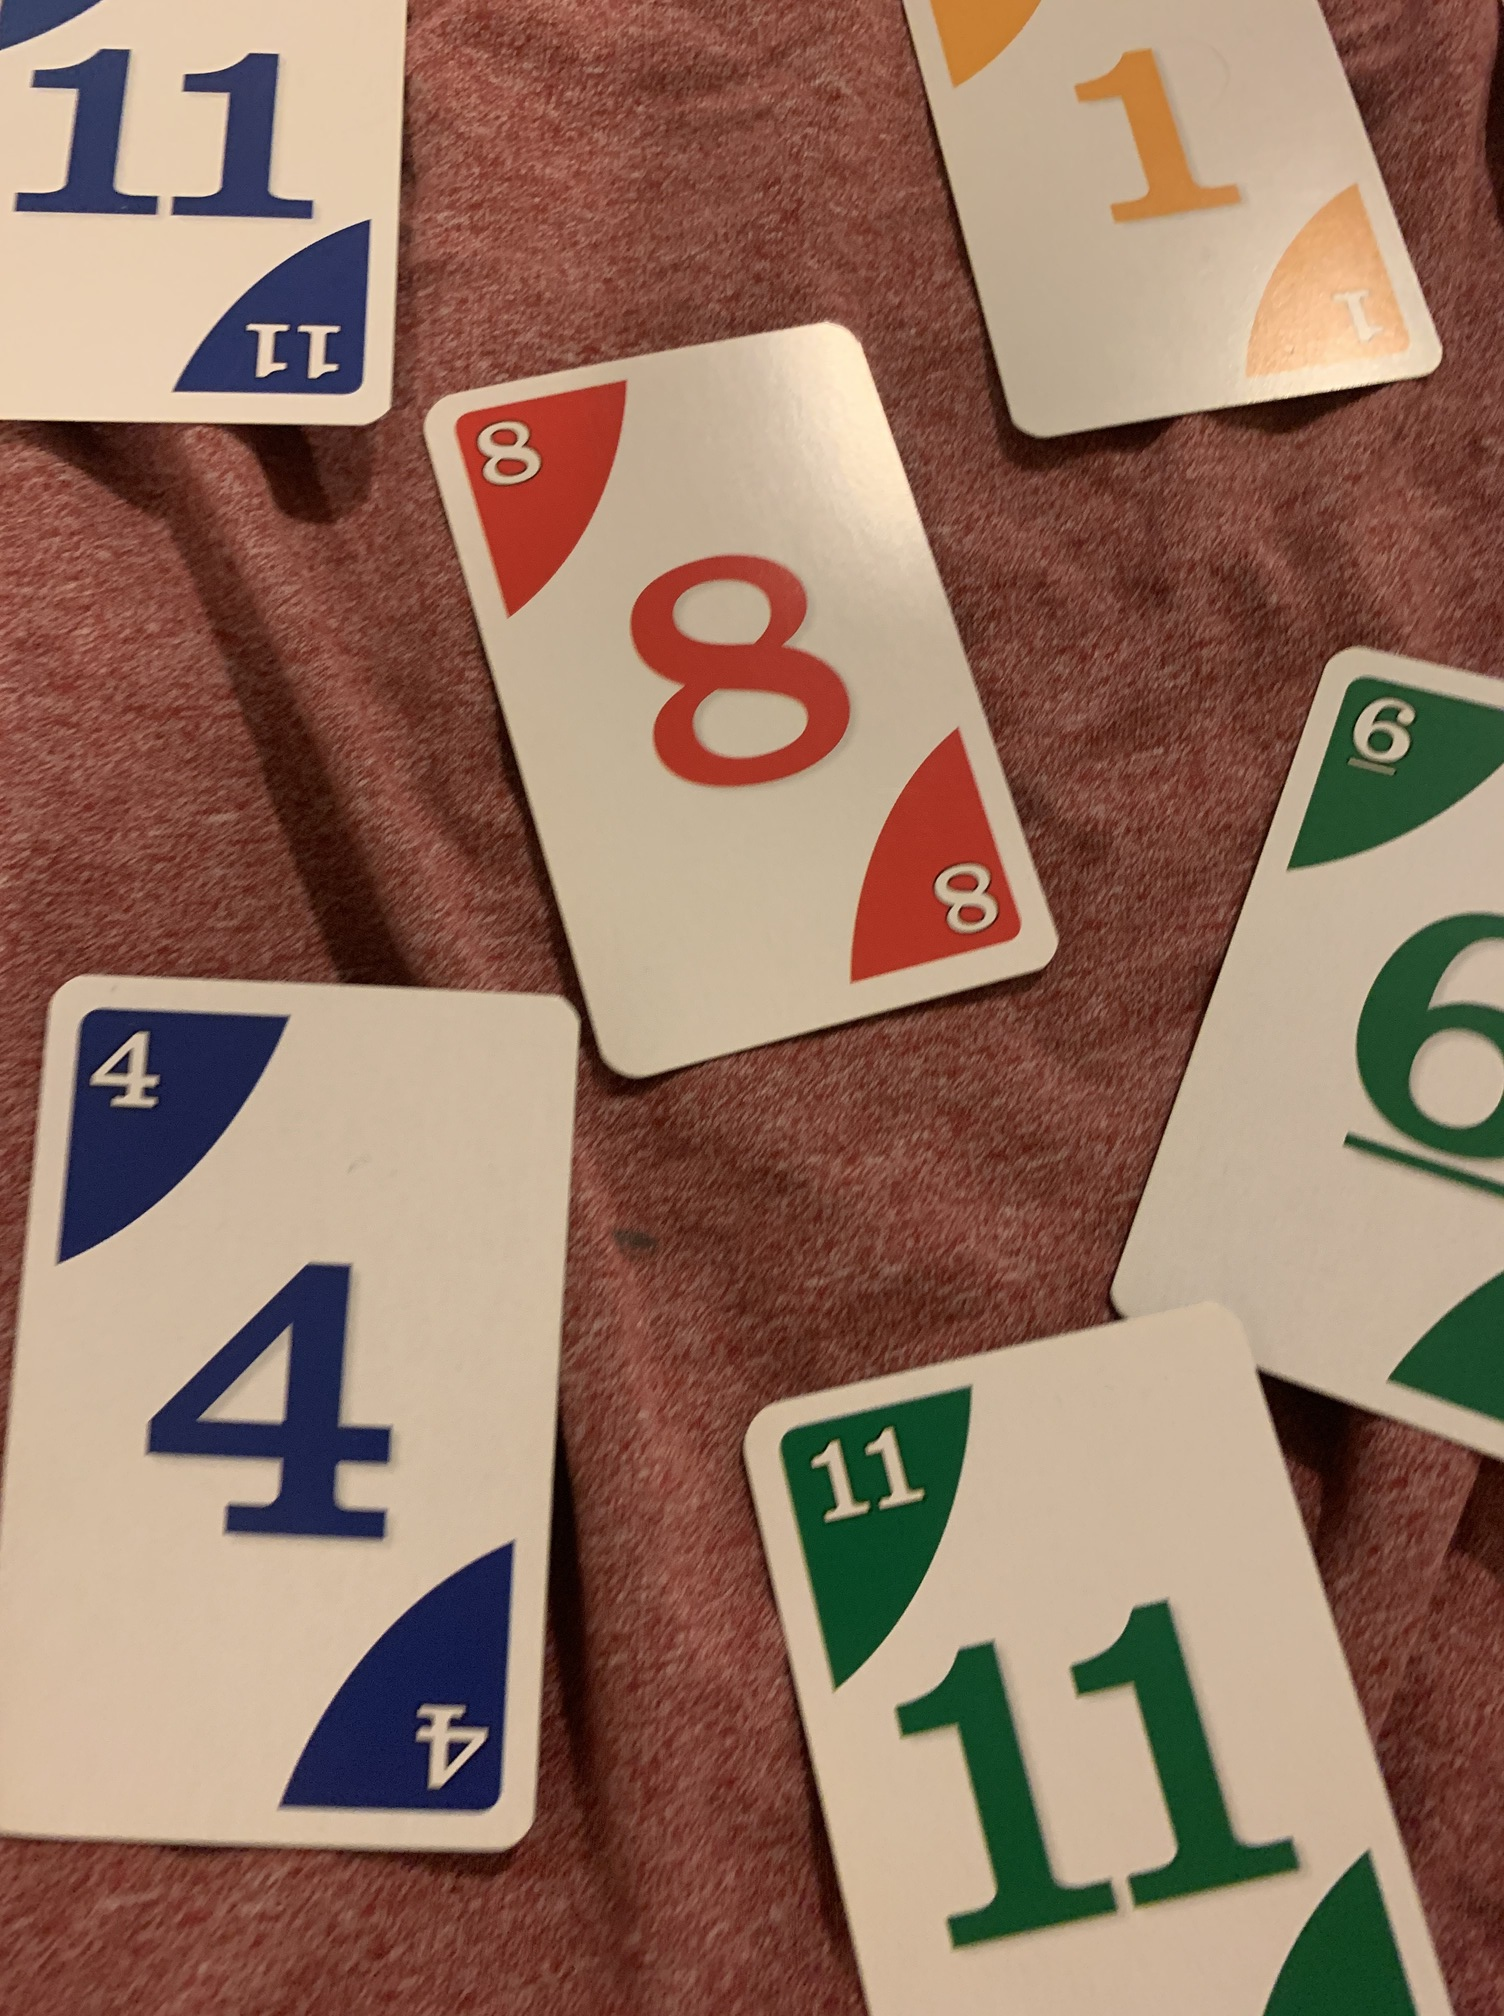eight: (404, 311, 1071, 1089)
eleven: (724, 1299, 1449, 2016), (2, 2, 401, 438)
four: (2, 1019, 611, 1901)
one: (874, 2, 1453, 469)
six: (1081, 624, 1501, 1477)
